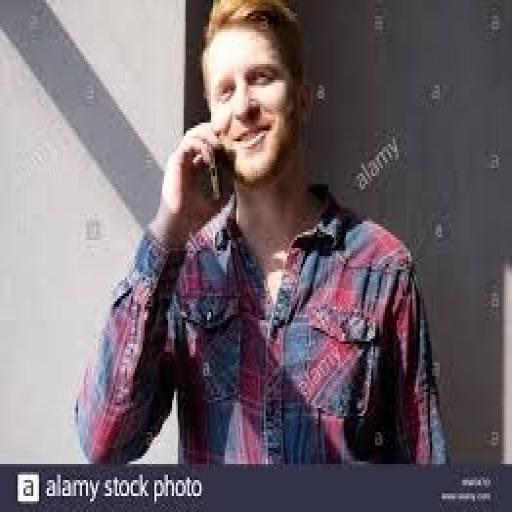calling: (72, 0, 450, 467)
